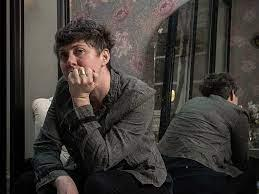Persons: (49, 19, 115, 94), (193, 68, 245, 110)
